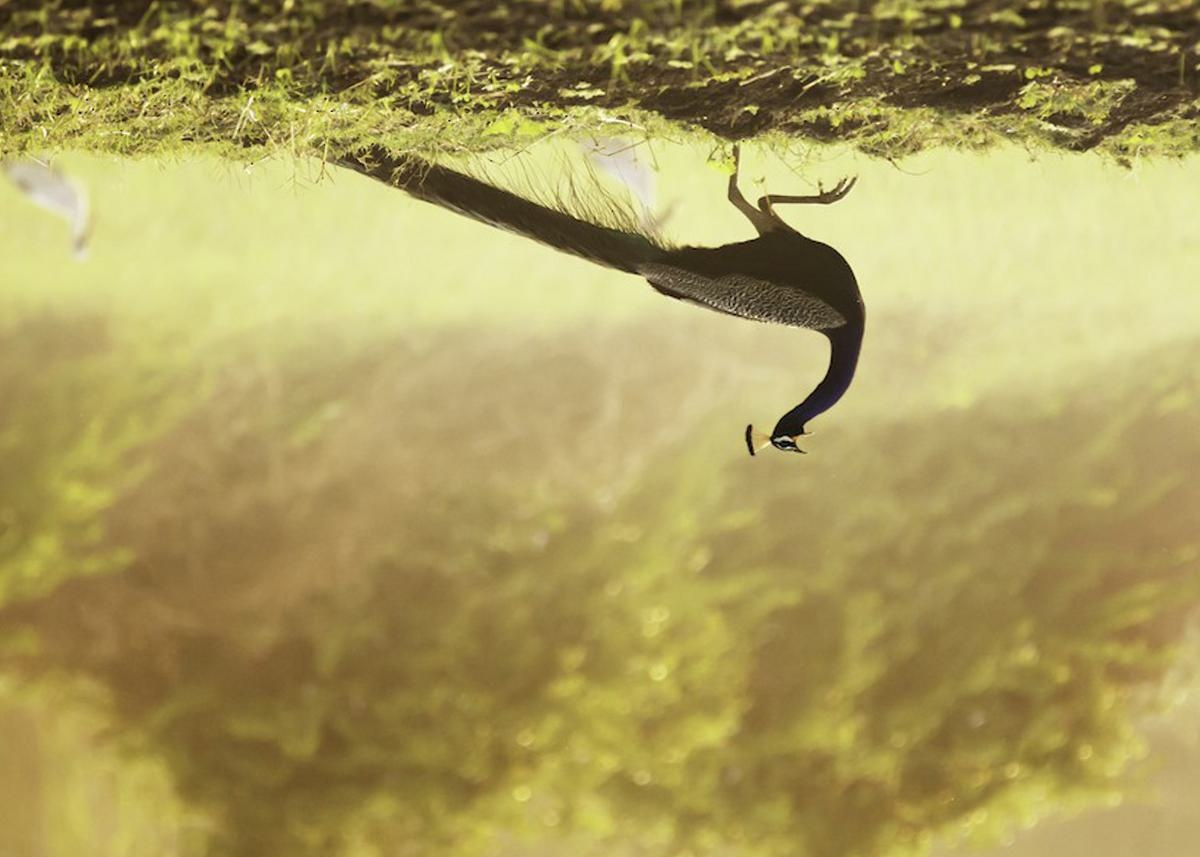peacock: (296, 96, 911, 496)
